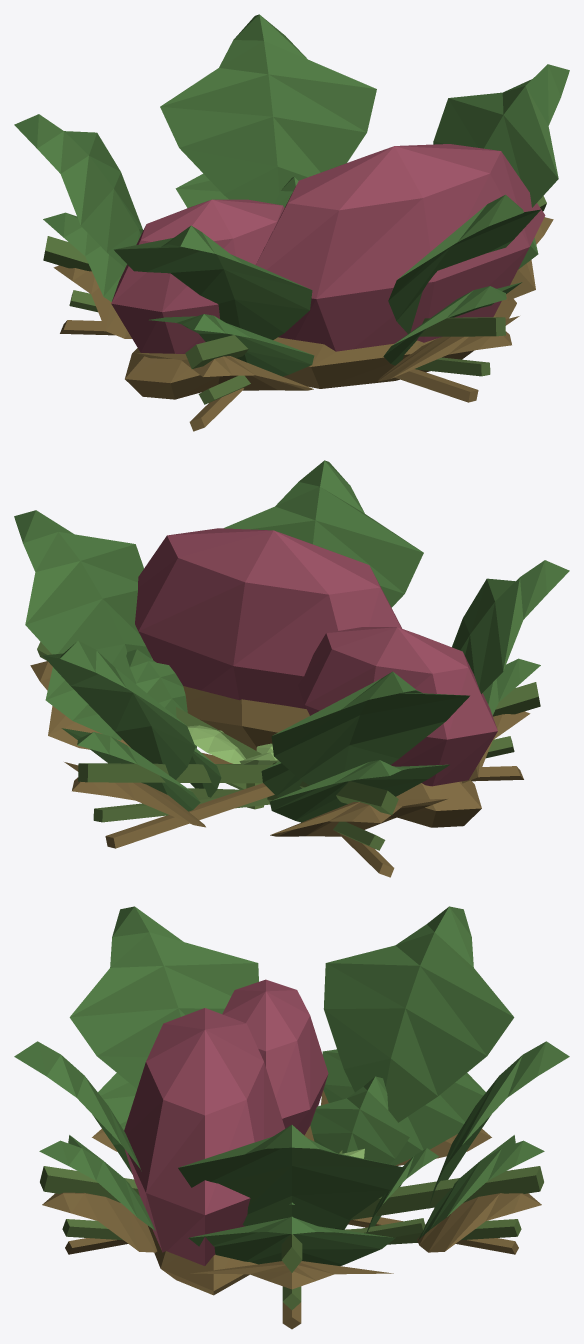
File: autumn_sweet_potato.glb
3 renders of one model, top to bottom at view 1: azimuth 30°, elevation 25°; view 2: azimuth 150°, elevation 25°; view 3: azimuth 270°, elevation 25°, orthographic. The views are drawn at different scales.
Visible parts, largest first — view 1: stage3, dead, stage2; view 2: stage3, dead, stage2, stage1, stage0; view 3: stage3, stage2, dead, stage1.
Boxes of the visible parts, x1,y1,x2,y2 form: stage3: [14, 14, 569, 368]; dead: [53, 217, 553, 431]; stage2: [43, 173, 538, 404]; stage3: [14, 460, 569, 814]; dead: [30, 661, 530, 877]; stage2: [45, 657, 540, 850]; stage1: [126, 649, 302, 801]; stage0: [187, 725, 278, 809]; stage3: [14, 906, 569, 1272]; stage2: [39, 1049, 544, 1309]; dead: [42, 1090, 541, 1329]; stage1: [289, 1076, 438, 1237].
Size of the model in its own units: 0.6485 by 0.31 by 0.6391.
